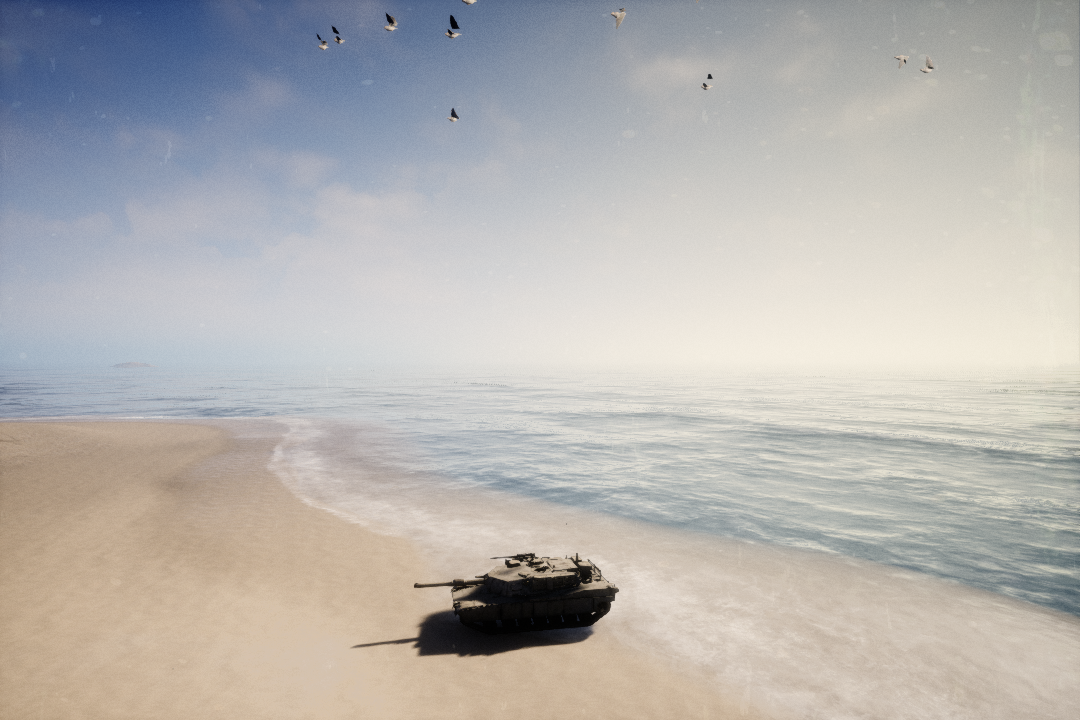tank: (411, 552, 625, 636)
